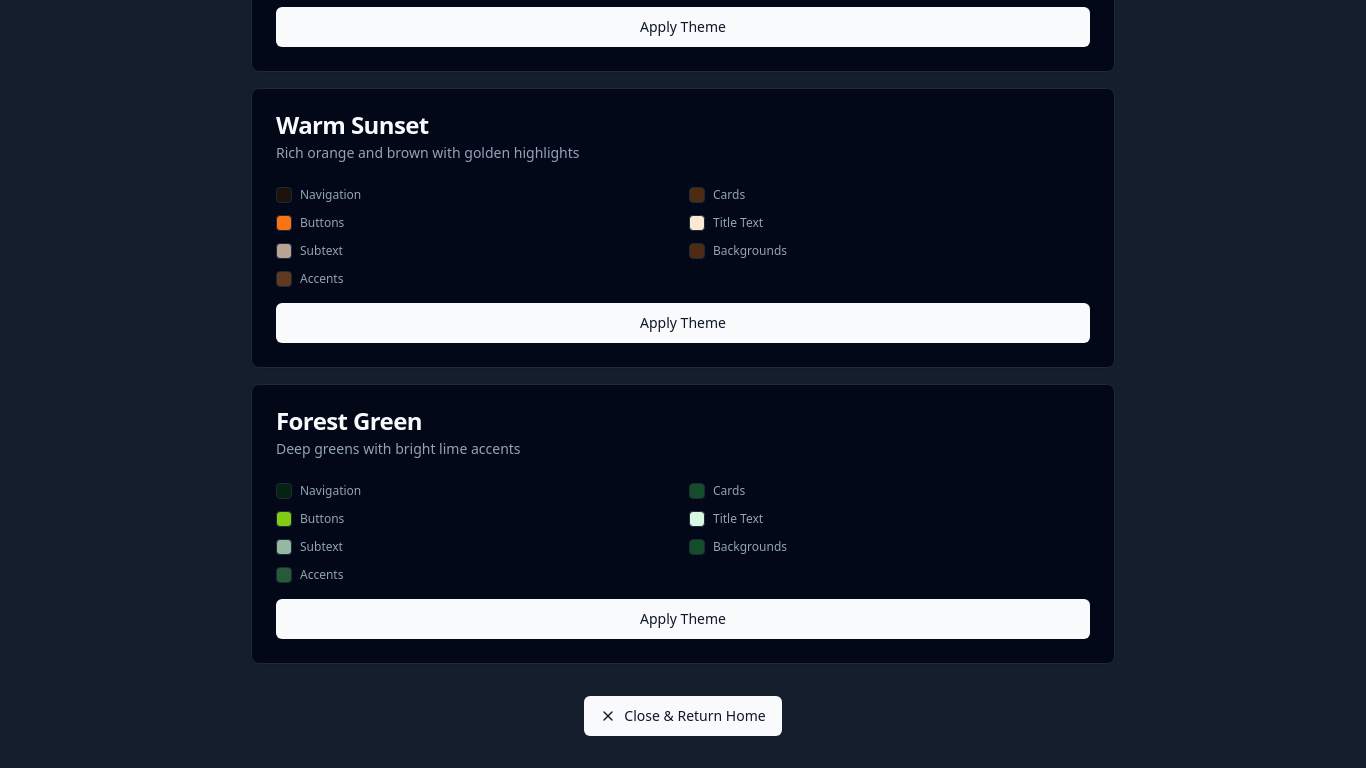
Test case: existing theme page and fallback › shows five unchanged candidate palettes, preserves layout labels, and uses honest save/retry controls
Later steps or results of the test are not shown.
(page scrolled)
Click the button "Apply Theme" below "Deep greens with bright lime accents".
click(683, 619)  # box [276, 599, 1090, 639]
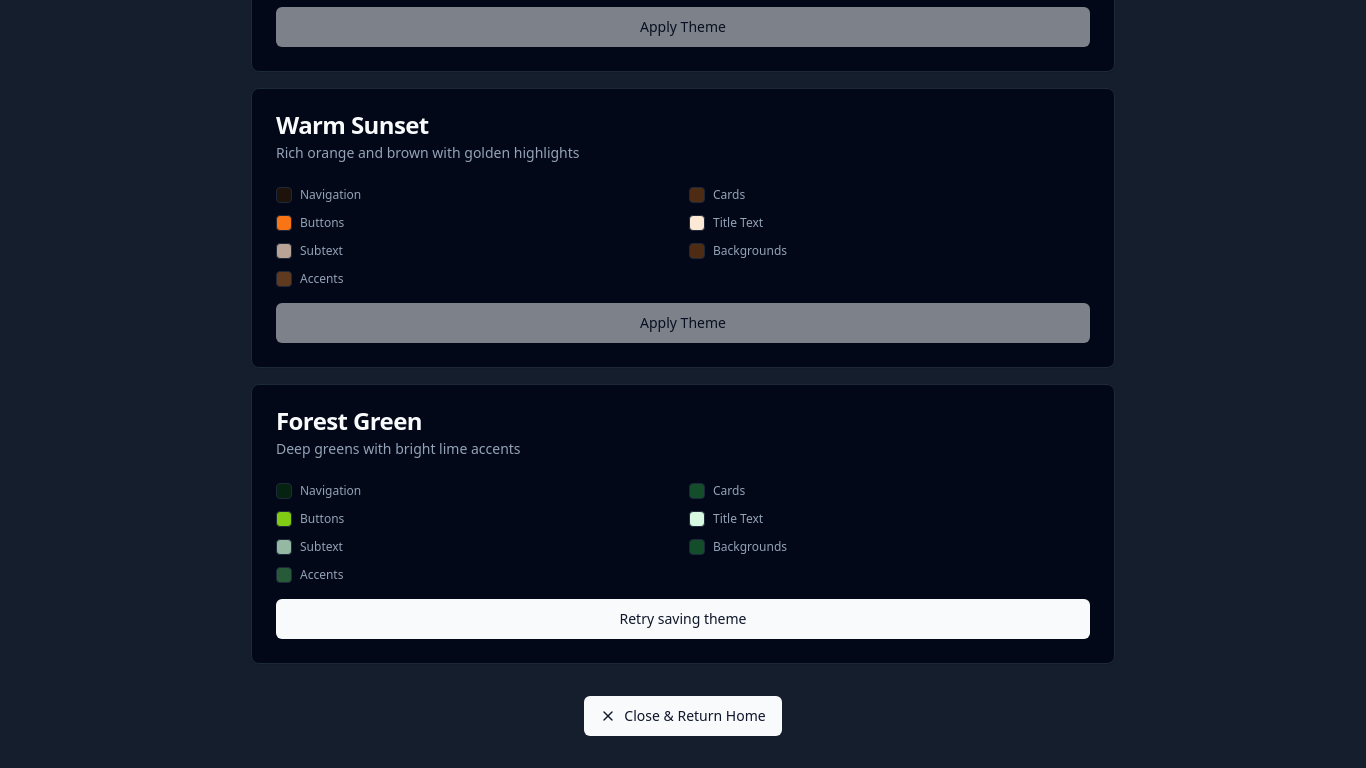
Click the button "Retry saving theme".
click(683, 619)  # box [276, 599, 1090, 639]
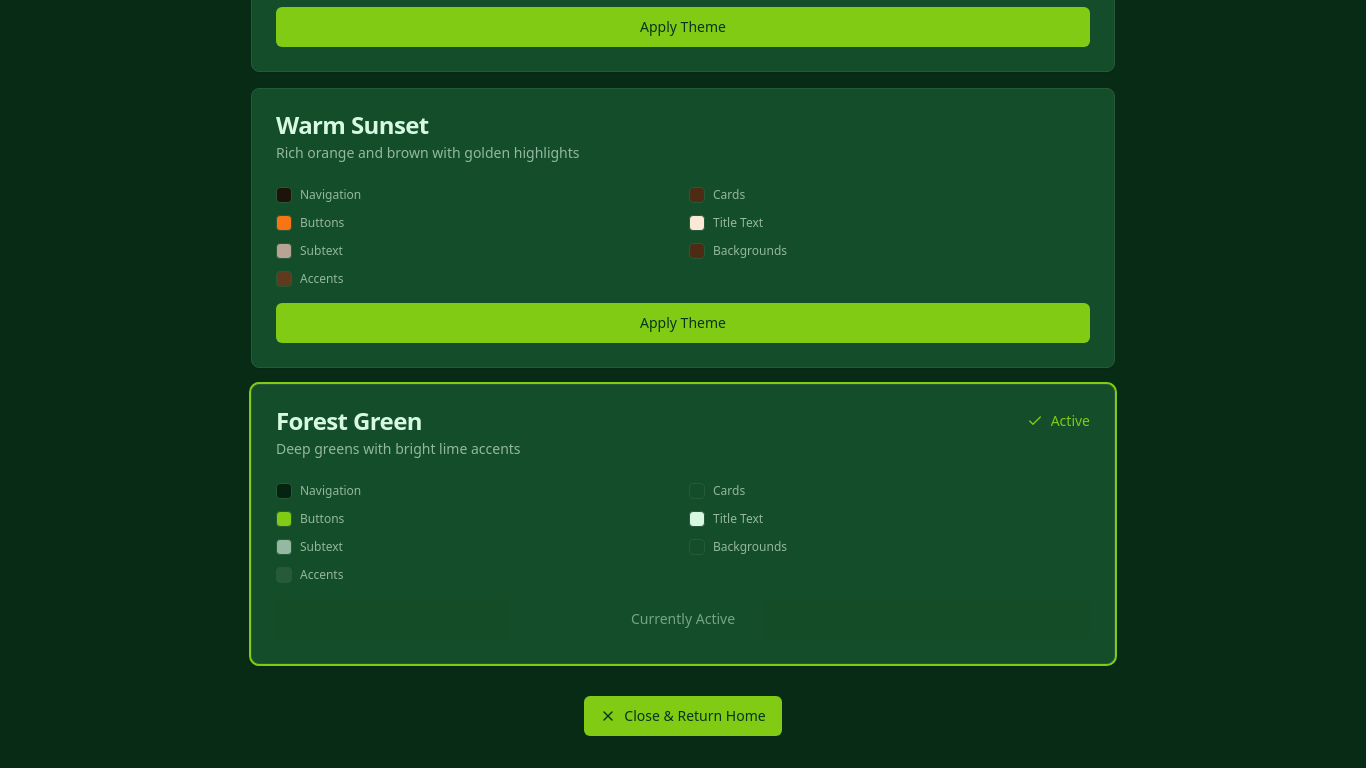
expect the button "Close & Return Home" is shown: met, box [584, 696, 782, 736]
expect the button "Currently Active" is shown: met, box [276, 599, 1090, 639]
